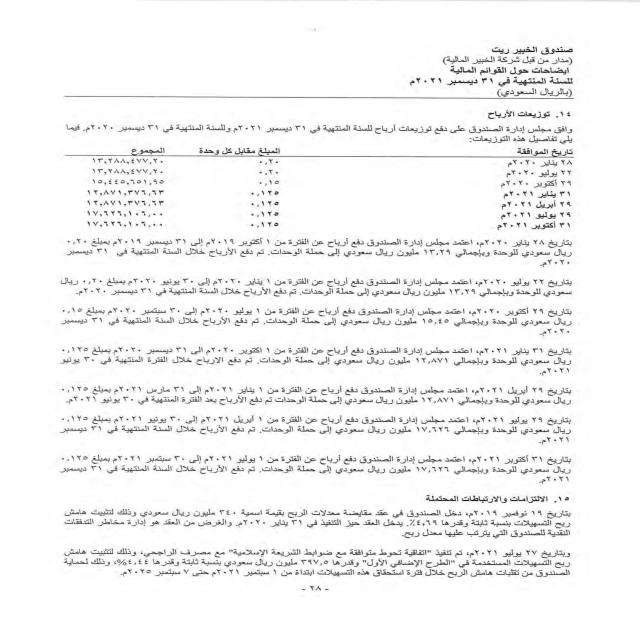notes: (444, 66, 572, 76)
table: (56, 145, 585, 233)
